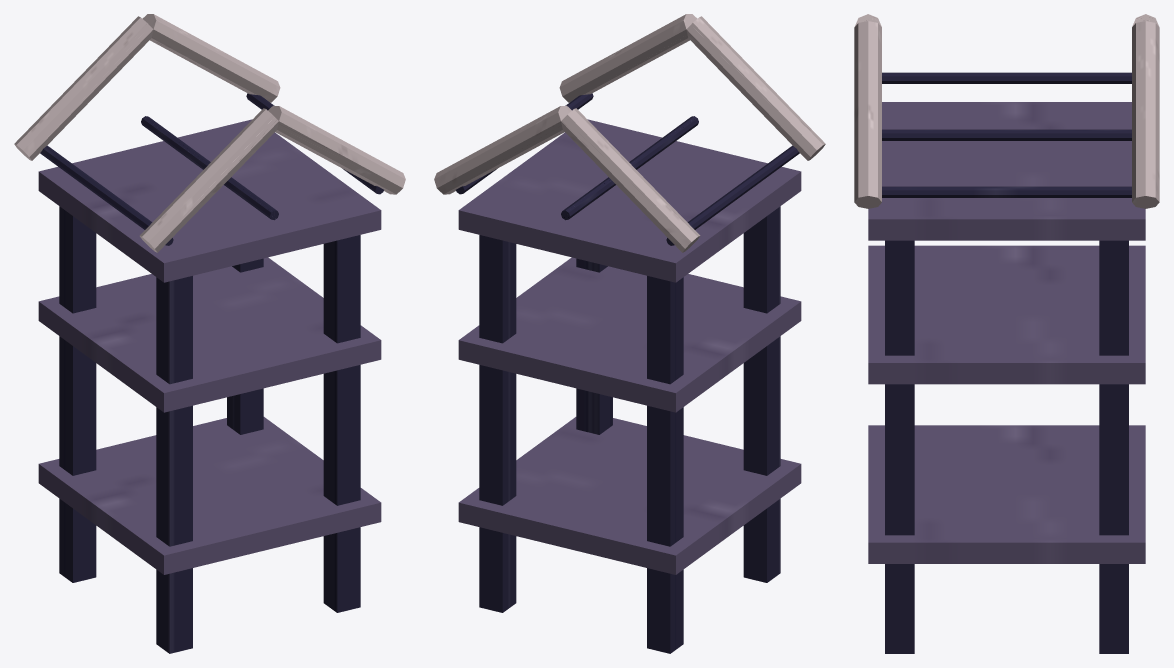
Rendered from yokai_watchtower_lod1.glb.
3 views of the same model, side by side, from view 1: azimuth 30°, elevation 25°; view 2: azimuth 150°, elevation 25°; view 3: azimuth 270°, elevation 25° (orthographic). The views are drawn at different scales.
Parts seen in each view (by area): view 1: ash_6, ash_4, ash_5, obsidian_3, obsidian_1, obsidian_0, bone_9, bone_7, bone_10, bone_8, obsidian_2, obsidian_12 (+1 smaller); view 2: ash_6, ash_4, ash_5, obsidian_2, obsidian_0, obsidian_1, bone_7, bone_9, bone_8, bone_10, obsidian_3, obsidian_12 (+1 smaller); view 3: ash_5, ash_4, ash_6, obsidian_2, obsidian_3, bone_8, bone_10, obsidian_11, obsidian_12, obsidian_13.
Part boxes in pixels (left/top/right/bottom): ash_6: left=38, top=119, right=381, bottom=282; ash_4: left=38, top=417, right=381, bottom=574; ash_5: left=38, top=257, right=381, bottom=412; obsidian_3: left=323, top=235, right=360, bottom=612; obsidian_1: left=156, top=276, right=192, bottom=653; obsidian_0: left=59, top=206, right=96, bottom=582; bone_9: left=139, top=108, right=278, bottom=252; bone_7: left=14, top=16, right=153, bottom=160; bone_10: left=268, top=105, right=405, bottom=194; bone_8: left=142, top=14, right=280, bottom=102; obsidian_2: left=227, top=258, right=263, bottom=434; obsidian_12: left=141, top=116, right=278, bottom=220; ash_6: left=458, top=119, right=801, bottom=282; ash_4: left=458, top=417, right=801, bottom=574; ash_5: left=458, top=257, right=801, bottom=412; obsidian_2: left=479, top=235, right=516, bottom=612; obsidian_0: left=647, top=276, right=683, bottom=653; obsidian_1: left=743, top=206, right=780, bottom=582; bone_7: left=561, top=108, right=700, bottom=252; bone_9: left=686, top=16, right=825, bottom=160; bone_8: left=434, top=105, right=571, bottom=194; bone_10: left=559, top=14, right=697, bottom=102; obsidian_3: left=576, top=258, right=612, bottom=434; obsidian_12: left=561, top=116, right=698, bottom=220; ash_5: left=868, top=245, right=1145, bottom=384; ash_4: left=868, top=425, right=1145, bottom=563; ash_6: left=868, top=102, right=1145, bottom=240; obsidian_2: left=1099, top=240, right=1128, bottom=653; obsidian_3: left=885, top=240, right=914, bottom=653; bone_8: left=1132, top=21, right=1159, bottom=208; bone_10: left=854, top=21, right=881, bottom=208; obsidian_11: left=882, top=72, right=1131, bottom=83; obsidian_12: left=882, top=129, right=1131, bottom=140; obsidian_13: left=882, top=186, right=1131, bottom=197.
Size of the model in its own units: 8.42 by 16.28 by 7.7.
Materials: 3 (3 with a texture image).
